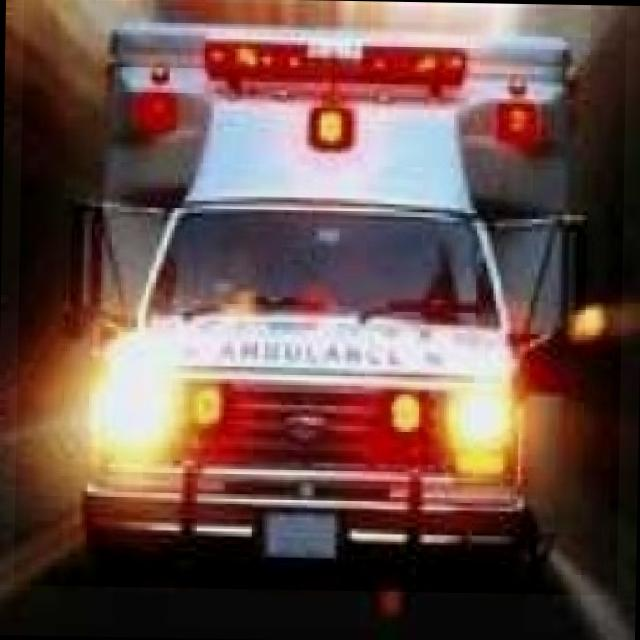ambulance: (13, 0, 626, 595)
